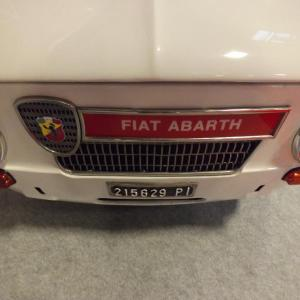Vehicle-registration-plate: (112, 187, 195, 199)
